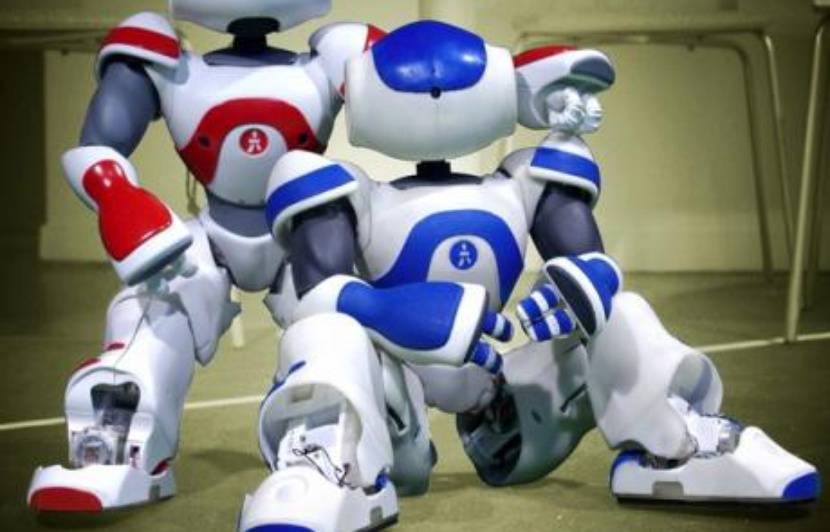nao: (263, 13, 818, 532), (54, 1, 397, 532)
